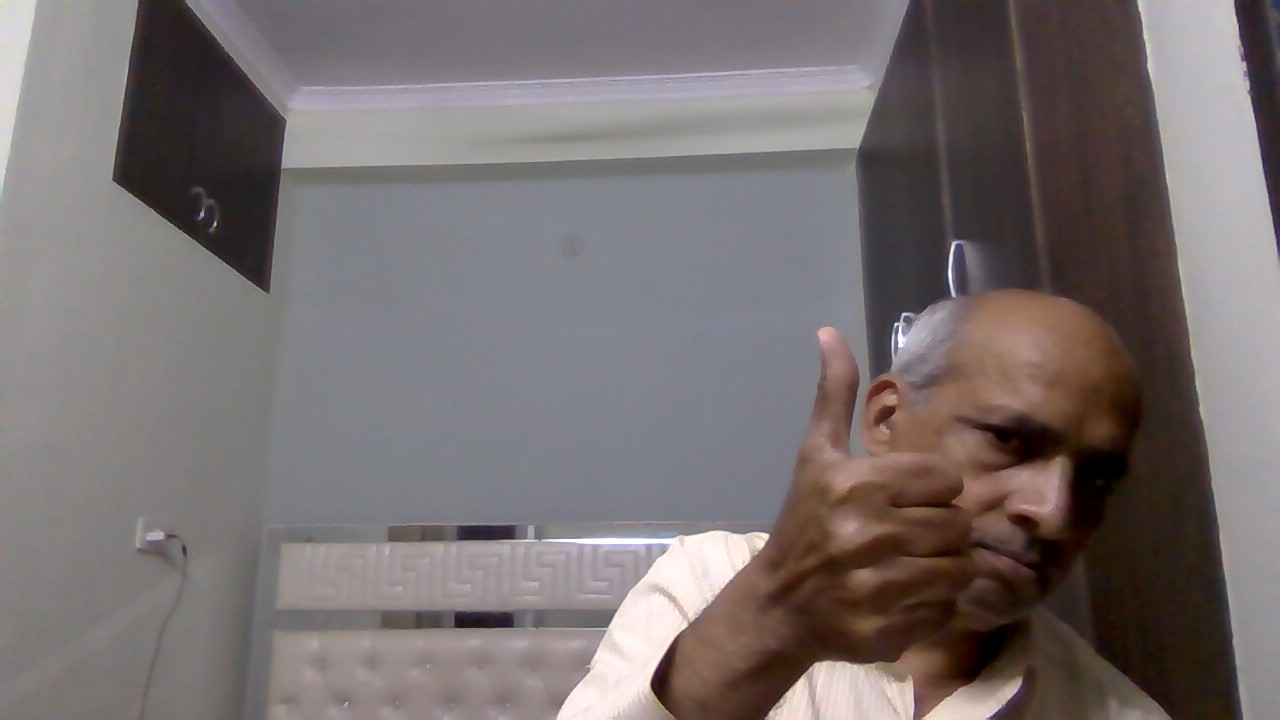Save: (770, 322, 981, 695)
